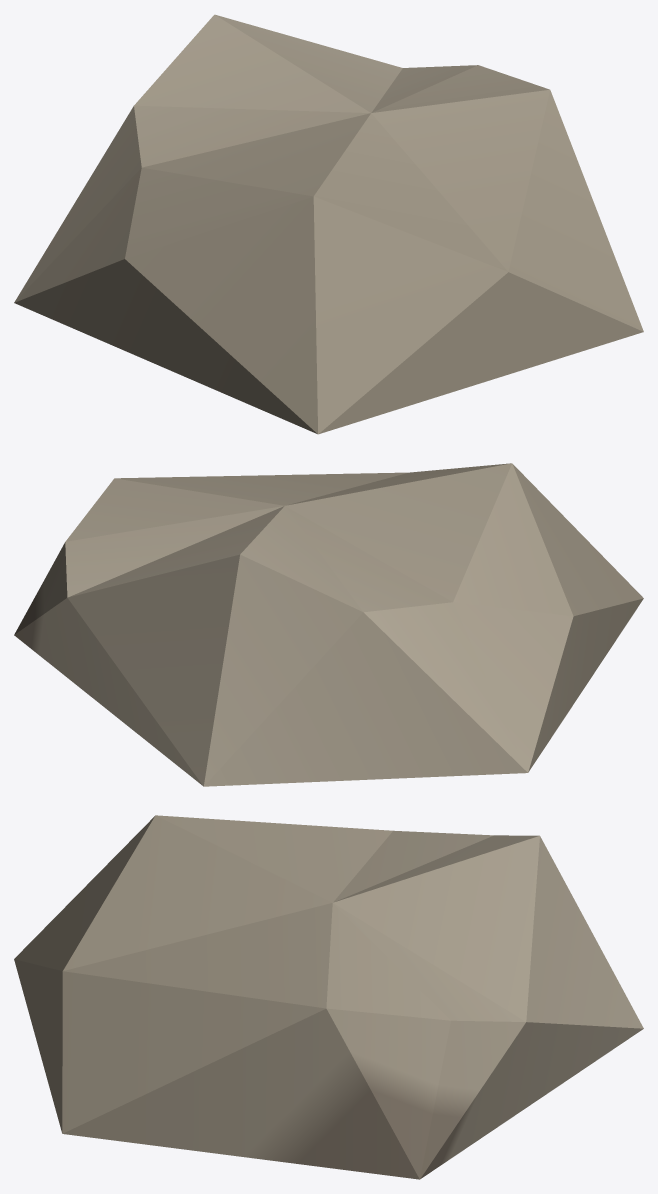
Rendered from Stone_A.fbx.
The picture shows the model from 3 angles, top to bottom: view 1: azimuth 30°, elevation 25°; view 2: azimuth 150°, elevation 25°; view 3: azimuth 270°, elevation 25°; orthographic projection. The views are drawn at different scales.
Parts seen in each view (by area): view 1: Stone_A; view 2: Stone_A; view 3: Stone_A.
Boxes of the visible parts, <box> form: Stone_A: <box>14,14,643,434</box>; Stone_A: <box>14,463,643,786</box>; Stone_A: <box>14,815,643,1179</box>.
Size of the model in its own units: 0.7168 by 0.25 by 0.7142.
Materials: 1 (1 with a texture image).
